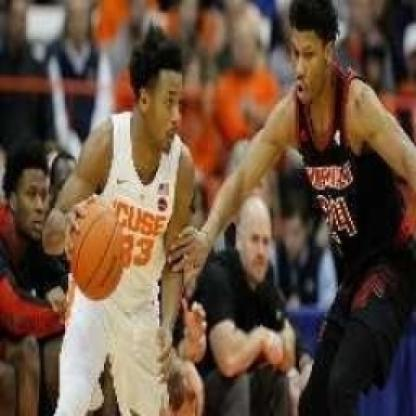basketball: (62, 200, 134, 304)
